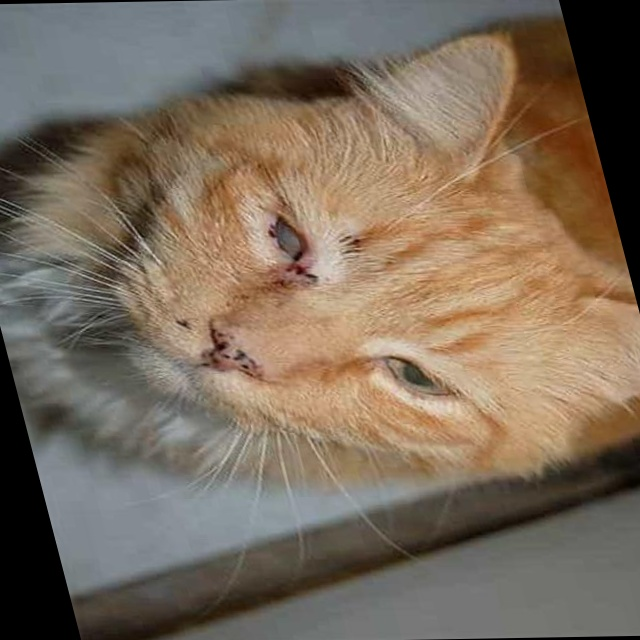eye_infection: (261, 219, 316, 273)
